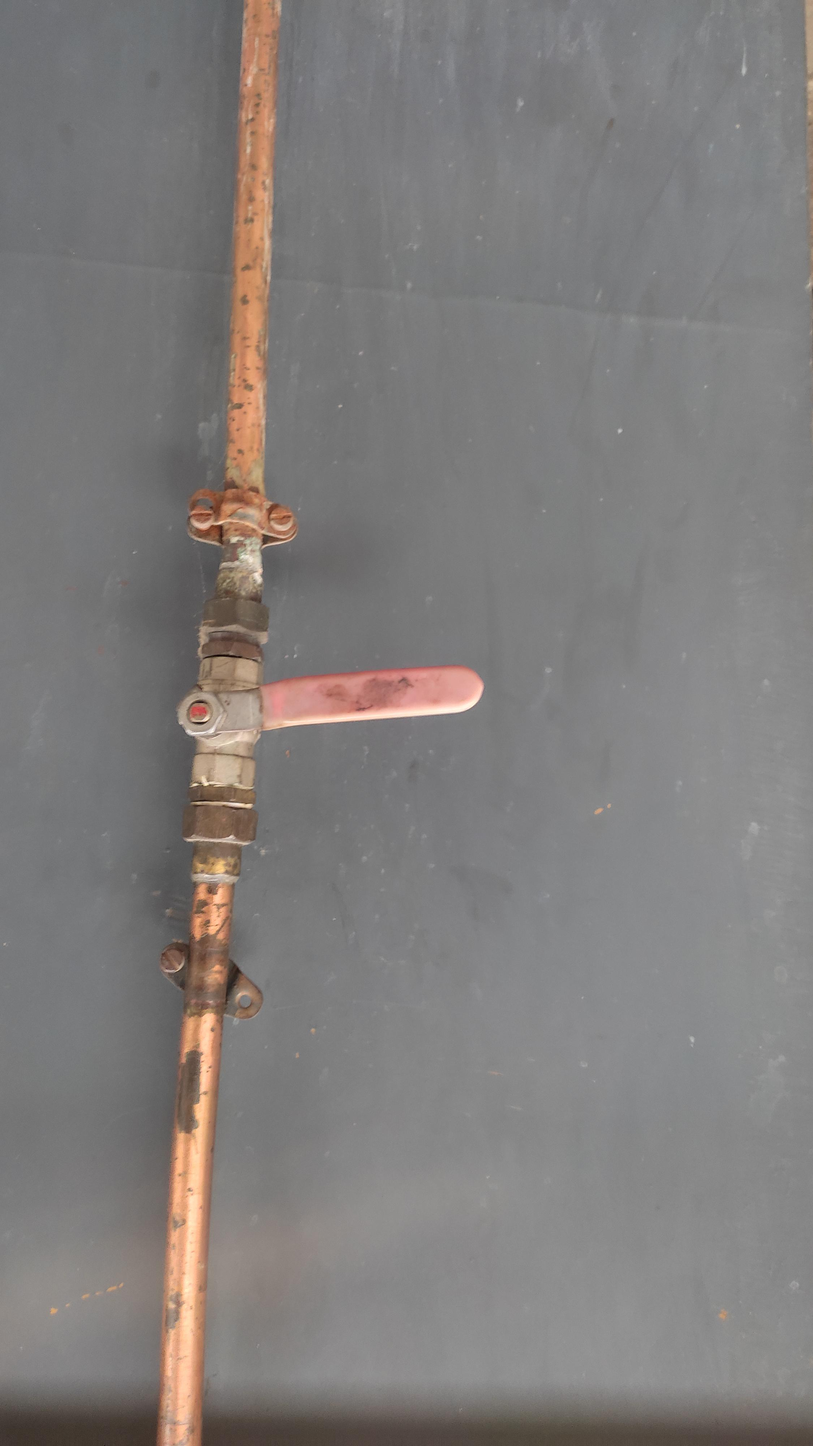closed valve: (174, 649, 486, 802)
